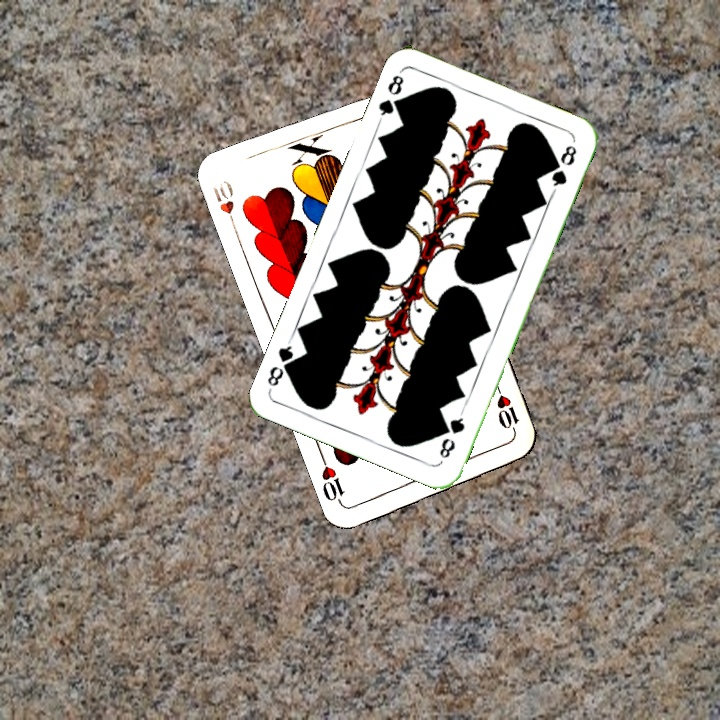G8: (374, 68, 408, 124), (435, 407, 468, 461)
H10: (209, 176, 240, 234), (492, 381, 521, 438)
